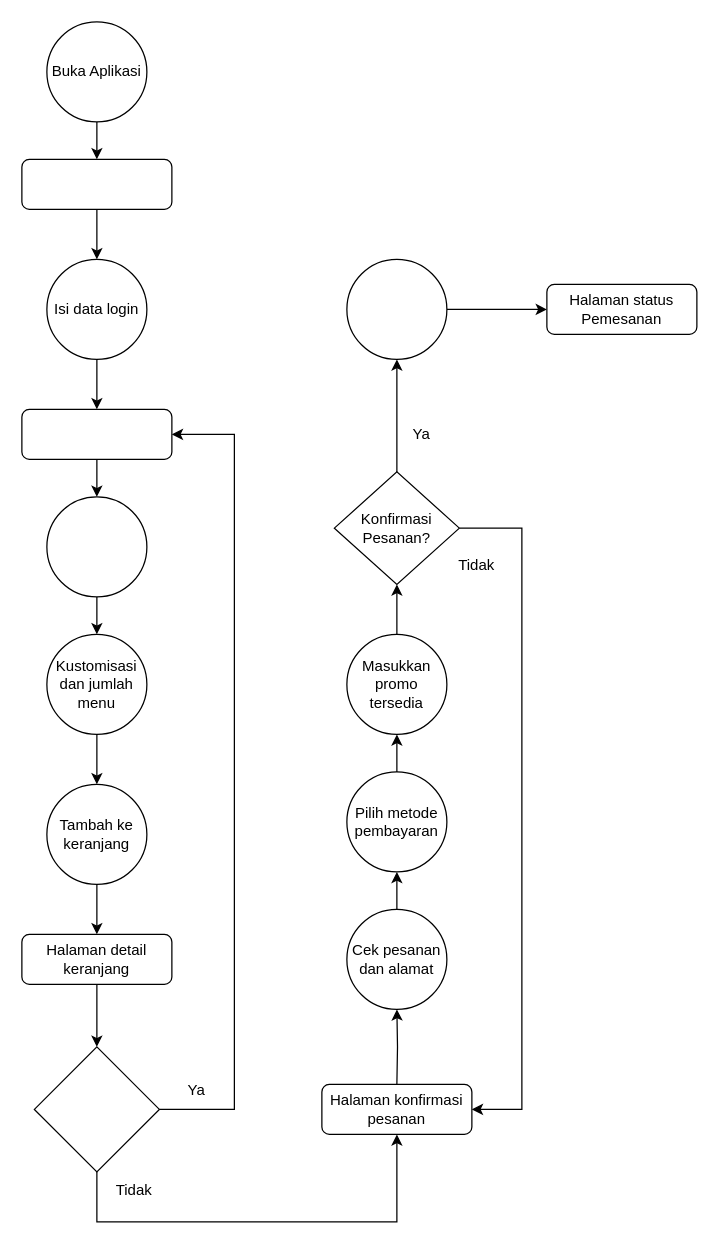
The diagram is 719 pixels wide and 1254 high, and some of its shapes have lost their labels. The box of each missing label's shape, as (x1, y1, x2, y2) in pixels:
Cari atau pilih menu: (46, 496, 147, 597)
Halaman Login: (21, 158, 172, 209)
Halaman Utama: (21, 408, 172, 459)
Melakukan Pembayaran: (346, 258, 447, 359)
Tambah Menu Lain?: (33, 1046, 159, 1172)
